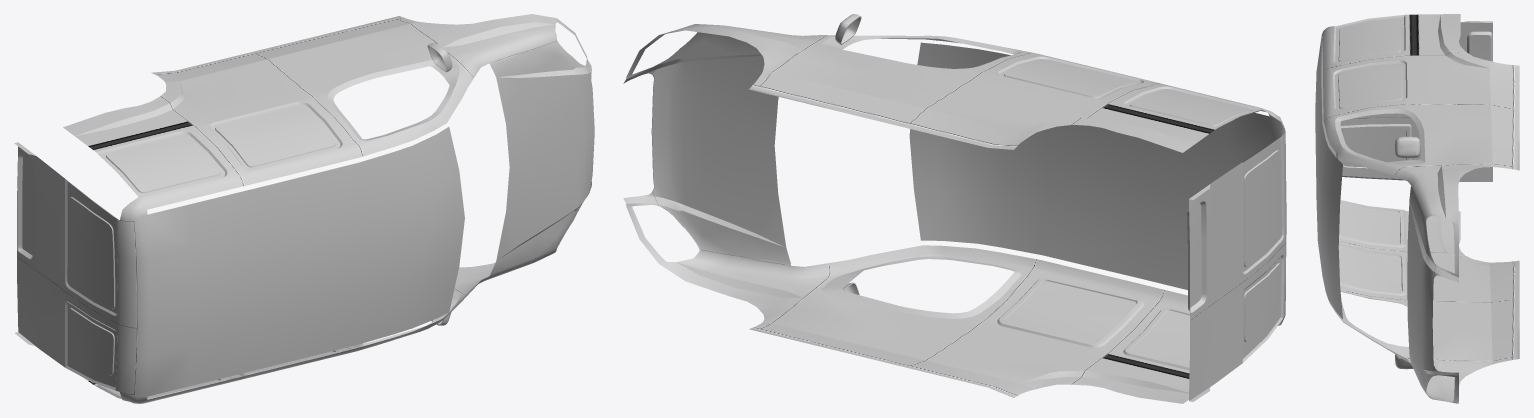
File: body.obj
3 renders of one model, left to right at view 1: azimuth 30°, elevation 25°; view 2: azimuth 150°, elevation 25°; view 3: azimuth 270°, elevation 25°, orthographic. The views are drawn at different scales.
Visible parts, largest first — view 1: body, Box06; view 2: body, Box06; view 3: body, Box06.
Part boxes in pixels (box(x1,y1,x2,y2)): body: box(14, 14, 594, 403); Box06: box(427, 43, 452, 325); body: box(623, 24, 1286, 403); Box06: box(835, 14, 861, 295); body: box(1315, 14, 1519, 403); Box06: box(1395, 136, 1420, 369).
Size of the model in its own units: 4.12 by 1.95 by 1.57.
Materials: 1 (1 with a texture image).
